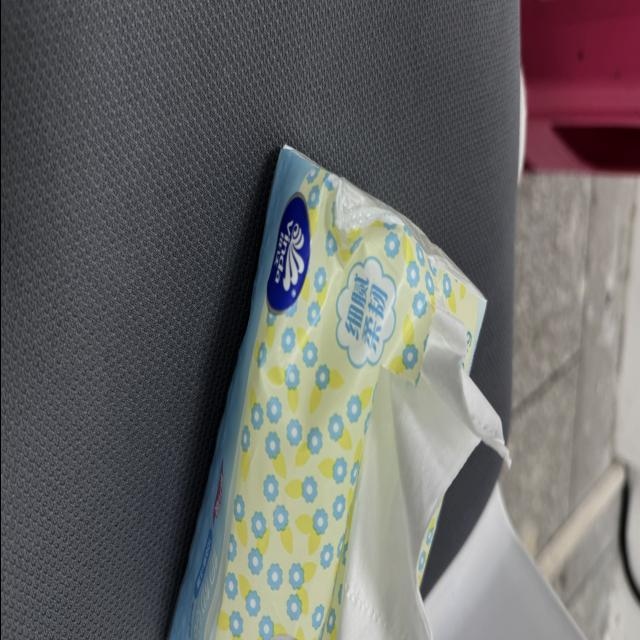tissue: (170, 148, 505, 639), (336, 313, 506, 639)
